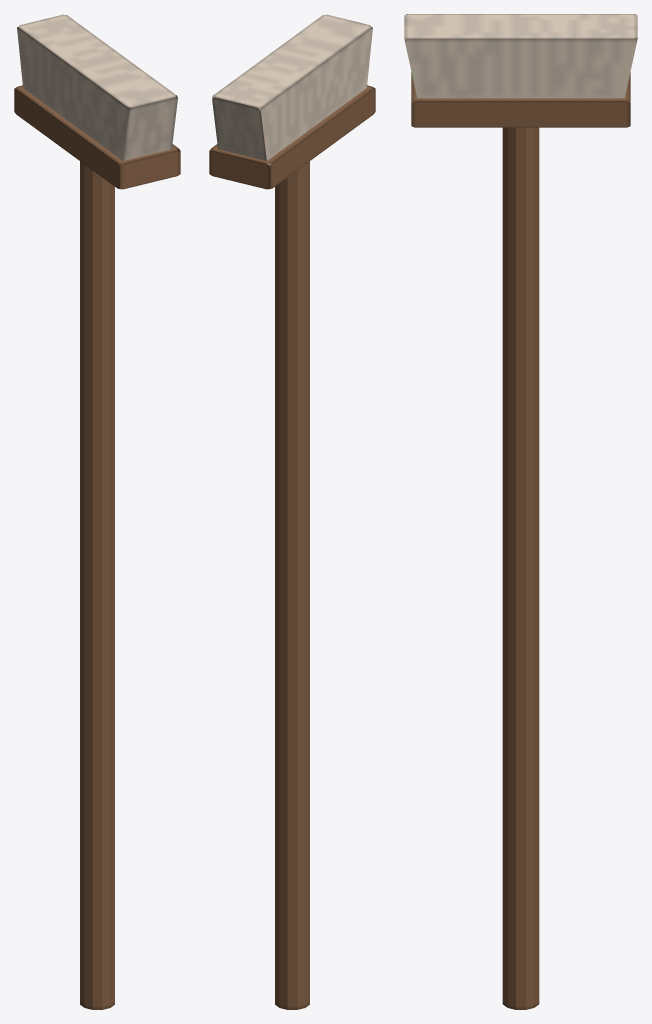
File: Mop.fbx
3 views of the same model, side by side, from view 1: azimuth 30°, elevation 25°; view 2: azimuth 150°, elevation 25°; view 3: azimuth 270°, elevation 25° (orthographic). The views are drawn at different scales.
Visible parts, largest first — view 1: cylinder, cuboid_1, cuboid; view 2: cylinder, cuboid_1, cuboid; view 3: cylinder, cuboid_1, cuboid.
Part boxes in pixels (bbox=[...]): cylinder: bbox=[80, 161, 114, 1009]; cuboid_1: bbox=[17, 14, 177, 165]; cuboid: bbox=[14, 85, 180, 189]; cylinder: bbox=[275, 161, 309, 1009]; cuboid_1: bbox=[212, 14, 372, 165]; cuboid: bbox=[209, 85, 375, 189]; cylinder: bbox=[502, 127, 539, 1009]; cuboid_1: bbox=[404, 14, 637, 98]; cuboid: bbox=[411, 72, 630, 127].
Bounding box in the file's own units: 6.25 × 92.19 × 20.
Materials: 1 (1 with a texture image).
